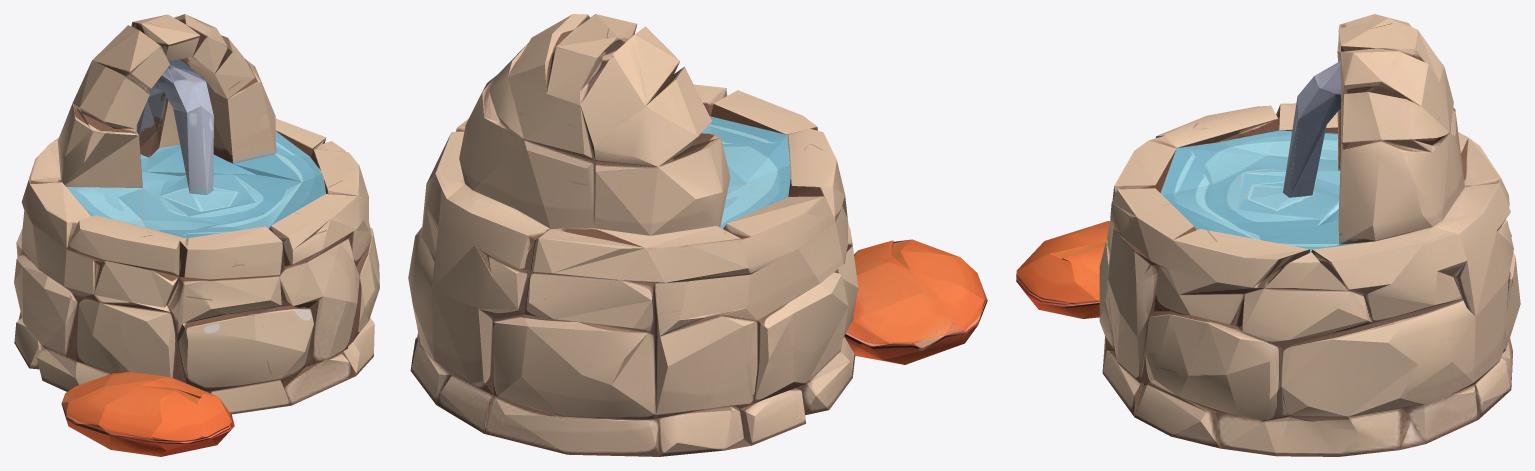
Rendered from fonte-descanso.glb.
3 views of the same model, side by side, from view 1: azimuth 30°, elevation 25°; view 2: azimuth 150°, elevation 25°; view 3: azimuth 270°, elevation 25° (orthographic). The views are drawn at different scales.
Bounding box in the file's own units: 1.78 × 1.42 × 1.9.
1 material, 1 textured.
